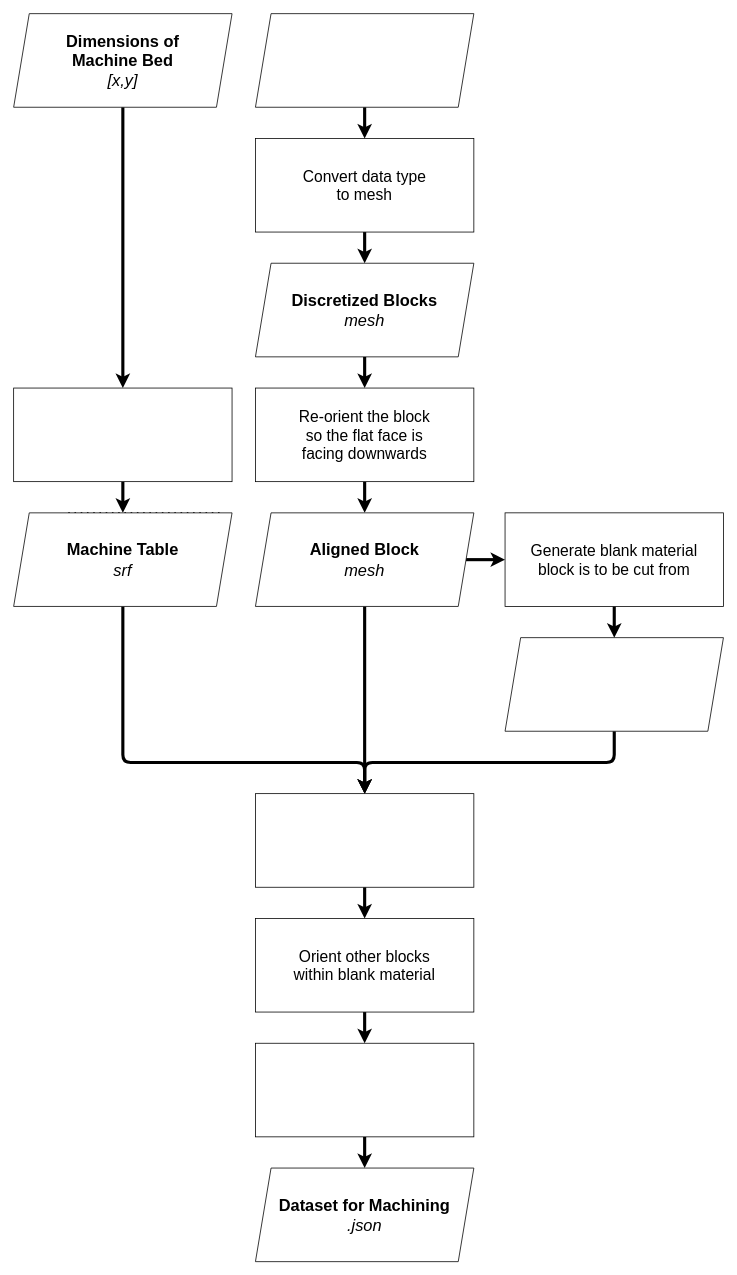
Some shapes in this 737 by 1275 pixel diagram are drawn without their labels. Each missing label, with the centre of its shape:
Blank Material mesh: the point at 613,684
Discretized Blocks .json: the point at 364,60
Generate paths for millin: the point at 364,1089
Generate the table of the machine as a surface: the point at 122,434
Orient block with blank material on the machine bed: the point at 364,840
